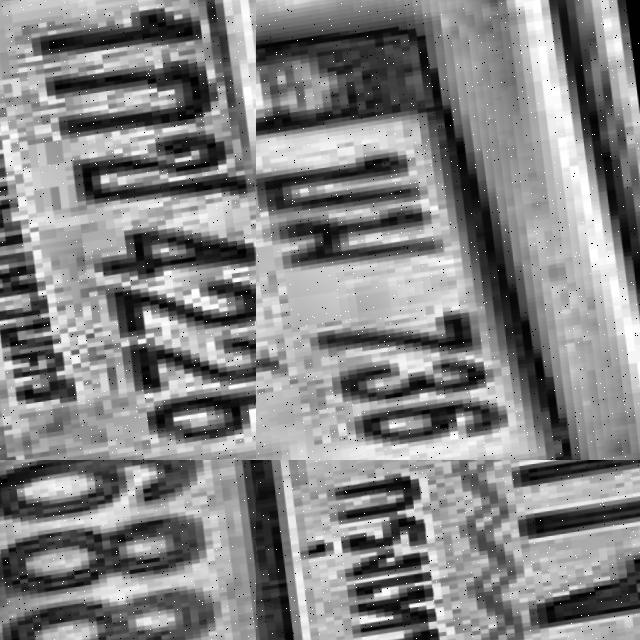license-plate: (256, 0, 621, 460), (0, 0, 256, 460), (256, 460, 640, 640), (0, 460, 256, 640)
